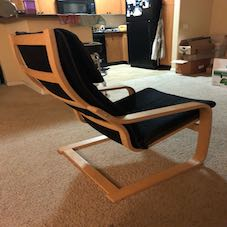chair: (6, 20, 219, 211)
